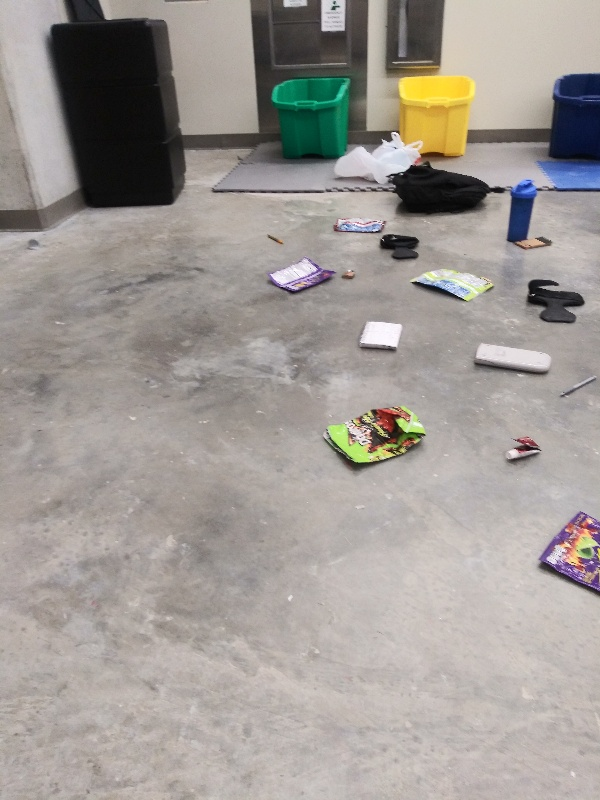bag: (318, 401, 429, 474), (527, 506, 600, 604), (406, 266, 498, 308), (264, 254, 336, 295), (328, 213, 390, 237)
